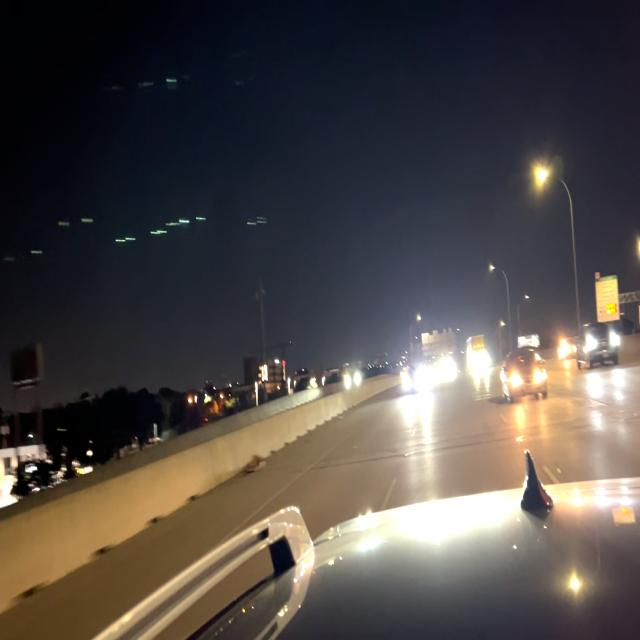back-of-sign: (421, 329, 458, 356)
